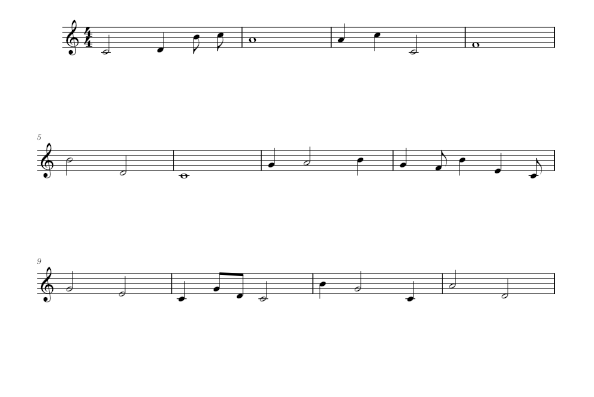Treble Clef: (37, 264, 58, 306), (63, 16, 83, 60), (36, 142, 55, 182)
